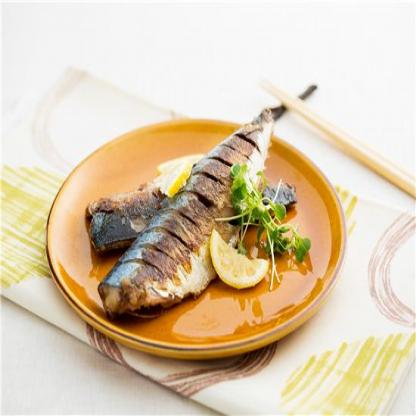Peixe: (85, 70, 322, 323)
